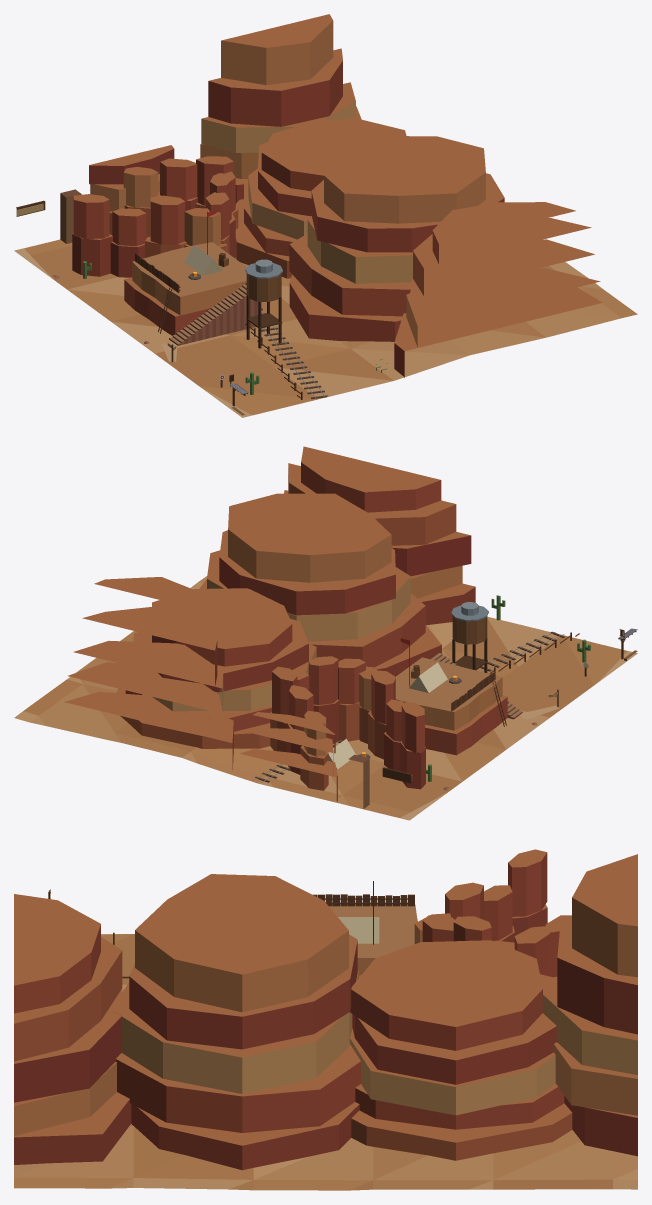
The picture shows the model from 3 angles, top to bottom: view 1: azimuth 30°, elevation 25°; view 2: azimuth 150°, elevation 25°; view 3: azimuth 270°, elevation 25°; orthographic projection. The views are drawn at different scales.
Parts seen in each view (by area): view 1: baked; view 2: baked; view 3: baked.
Part boxes in pixels (<box>): baked: <box>14,14,637,417</box>; baked: <box>14,446,637,820</box>; baked: <box>14,849,637,1190</box>.
Size of the model in its own units: 62.5 by 24.12 by 62.5.
